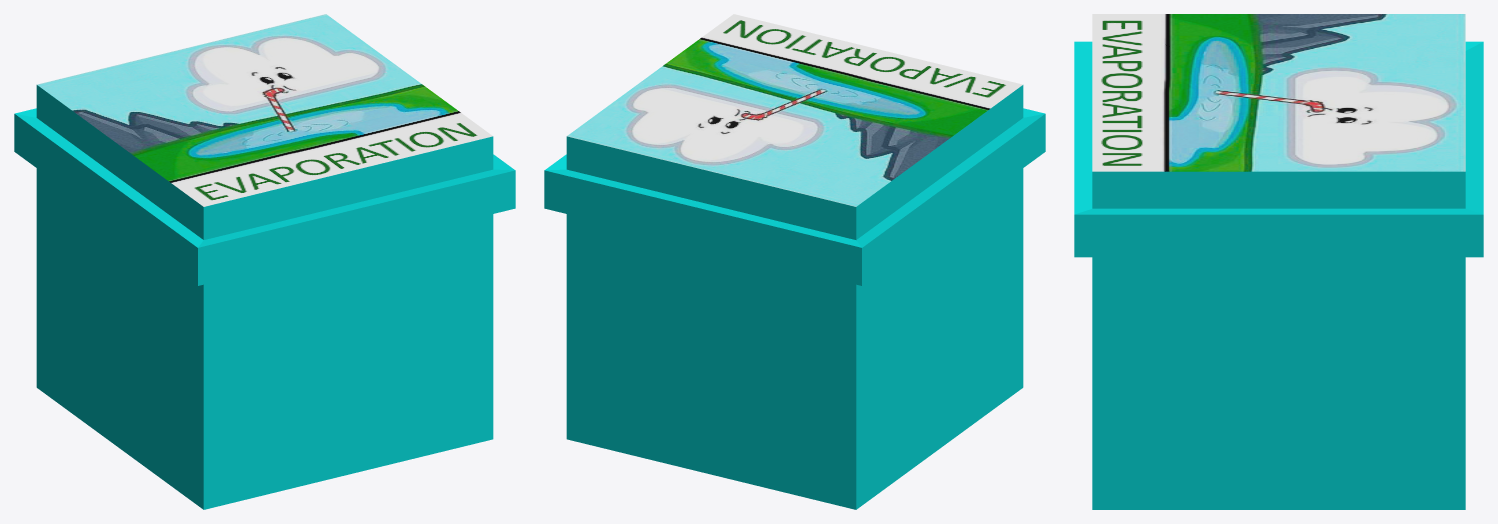
Rendered from EVAPORATION.fbx.
The picture shows the model from 3 angles, left to right: view 1: azimuth 30°, elevation 25°; view 2: azimuth 150°, elevation 25°; view 3: azimuth 270°, elevation 25°; orthographic projection. The views are drawn at different scales.
Visible parts, largest first — view 1: EVAPORATION; view 2: EVAPORATION; view 3: EVAPORATION.
Part boxes in pixels (<box>): EVAPORATION: <box>14,14,515,509</box>; EVAPORATION: <box>544,14,1045,509</box>; EVAPORATION: <box>1074,14,1483,509</box>.
Size of the model in its own units: 27.74 by 25.28 by 27.74.
2 materials, 1 textured.
